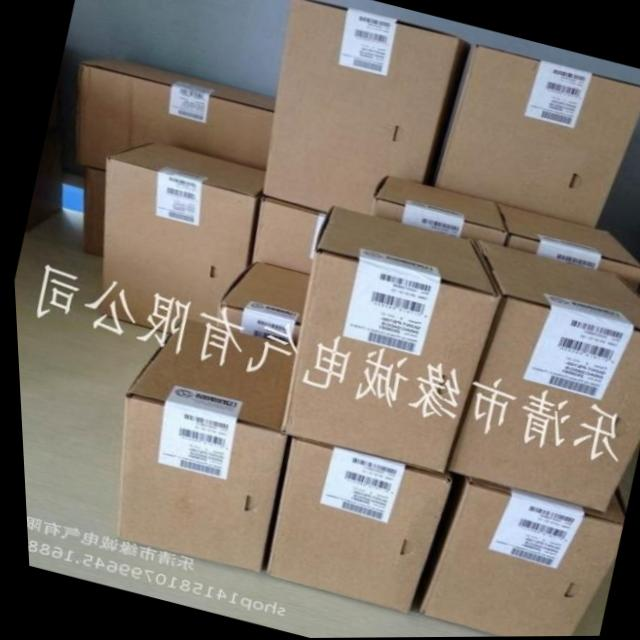box: (276, 204, 496, 476), (441, 239, 640, 514), (110, 317, 293, 574), (261, 0, 471, 214), (430, 45, 640, 228), (405, 473, 619, 637), (256, 440, 447, 616), (94, 139, 262, 333), (72, 57, 276, 171), (493, 202, 640, 294), (368, 175, 503, 247), (212, 261, 304, 348), (246, 198, 326, 275)
